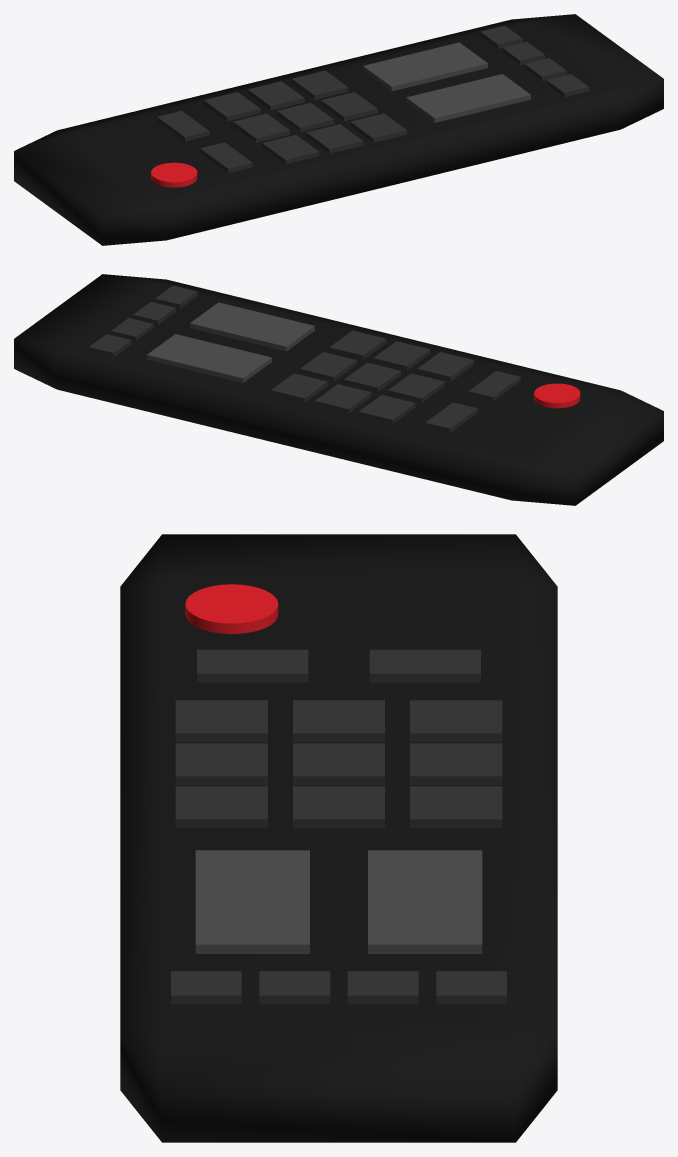
The model's file is TVRemote.fbx.
3 renders of one model, top to bottom at view 1: azimuth 30°, elevation 25°; view 2: azimuth 150°, elevation 25°; view 3: azimuth 270°, elevation 25°, orthographic. The views are drawn at different scales.
Visible parts, largest first — view 1: Cylinder; view 2: Cylinder; view 3: Cylinder.
Part boxes in pixels (<box>): Cylinder: <box>14,14,663,245</box>; Cylinder: <box>14,274,663,505</box>; Cylinder: <box>120,534,557,1142</box>.
Bounding box in the file's own units: 20.1 × 1.45 × 6.78.
